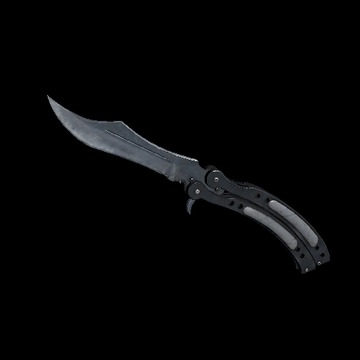knife: (45, 94, 339, 279)
